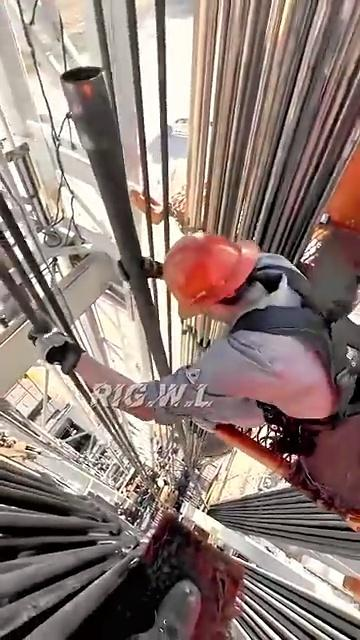gloves: (35, 330, 102, 378)
helmet: (153, 227, 265, 312)
worker: (58, 155, 332, 568)
